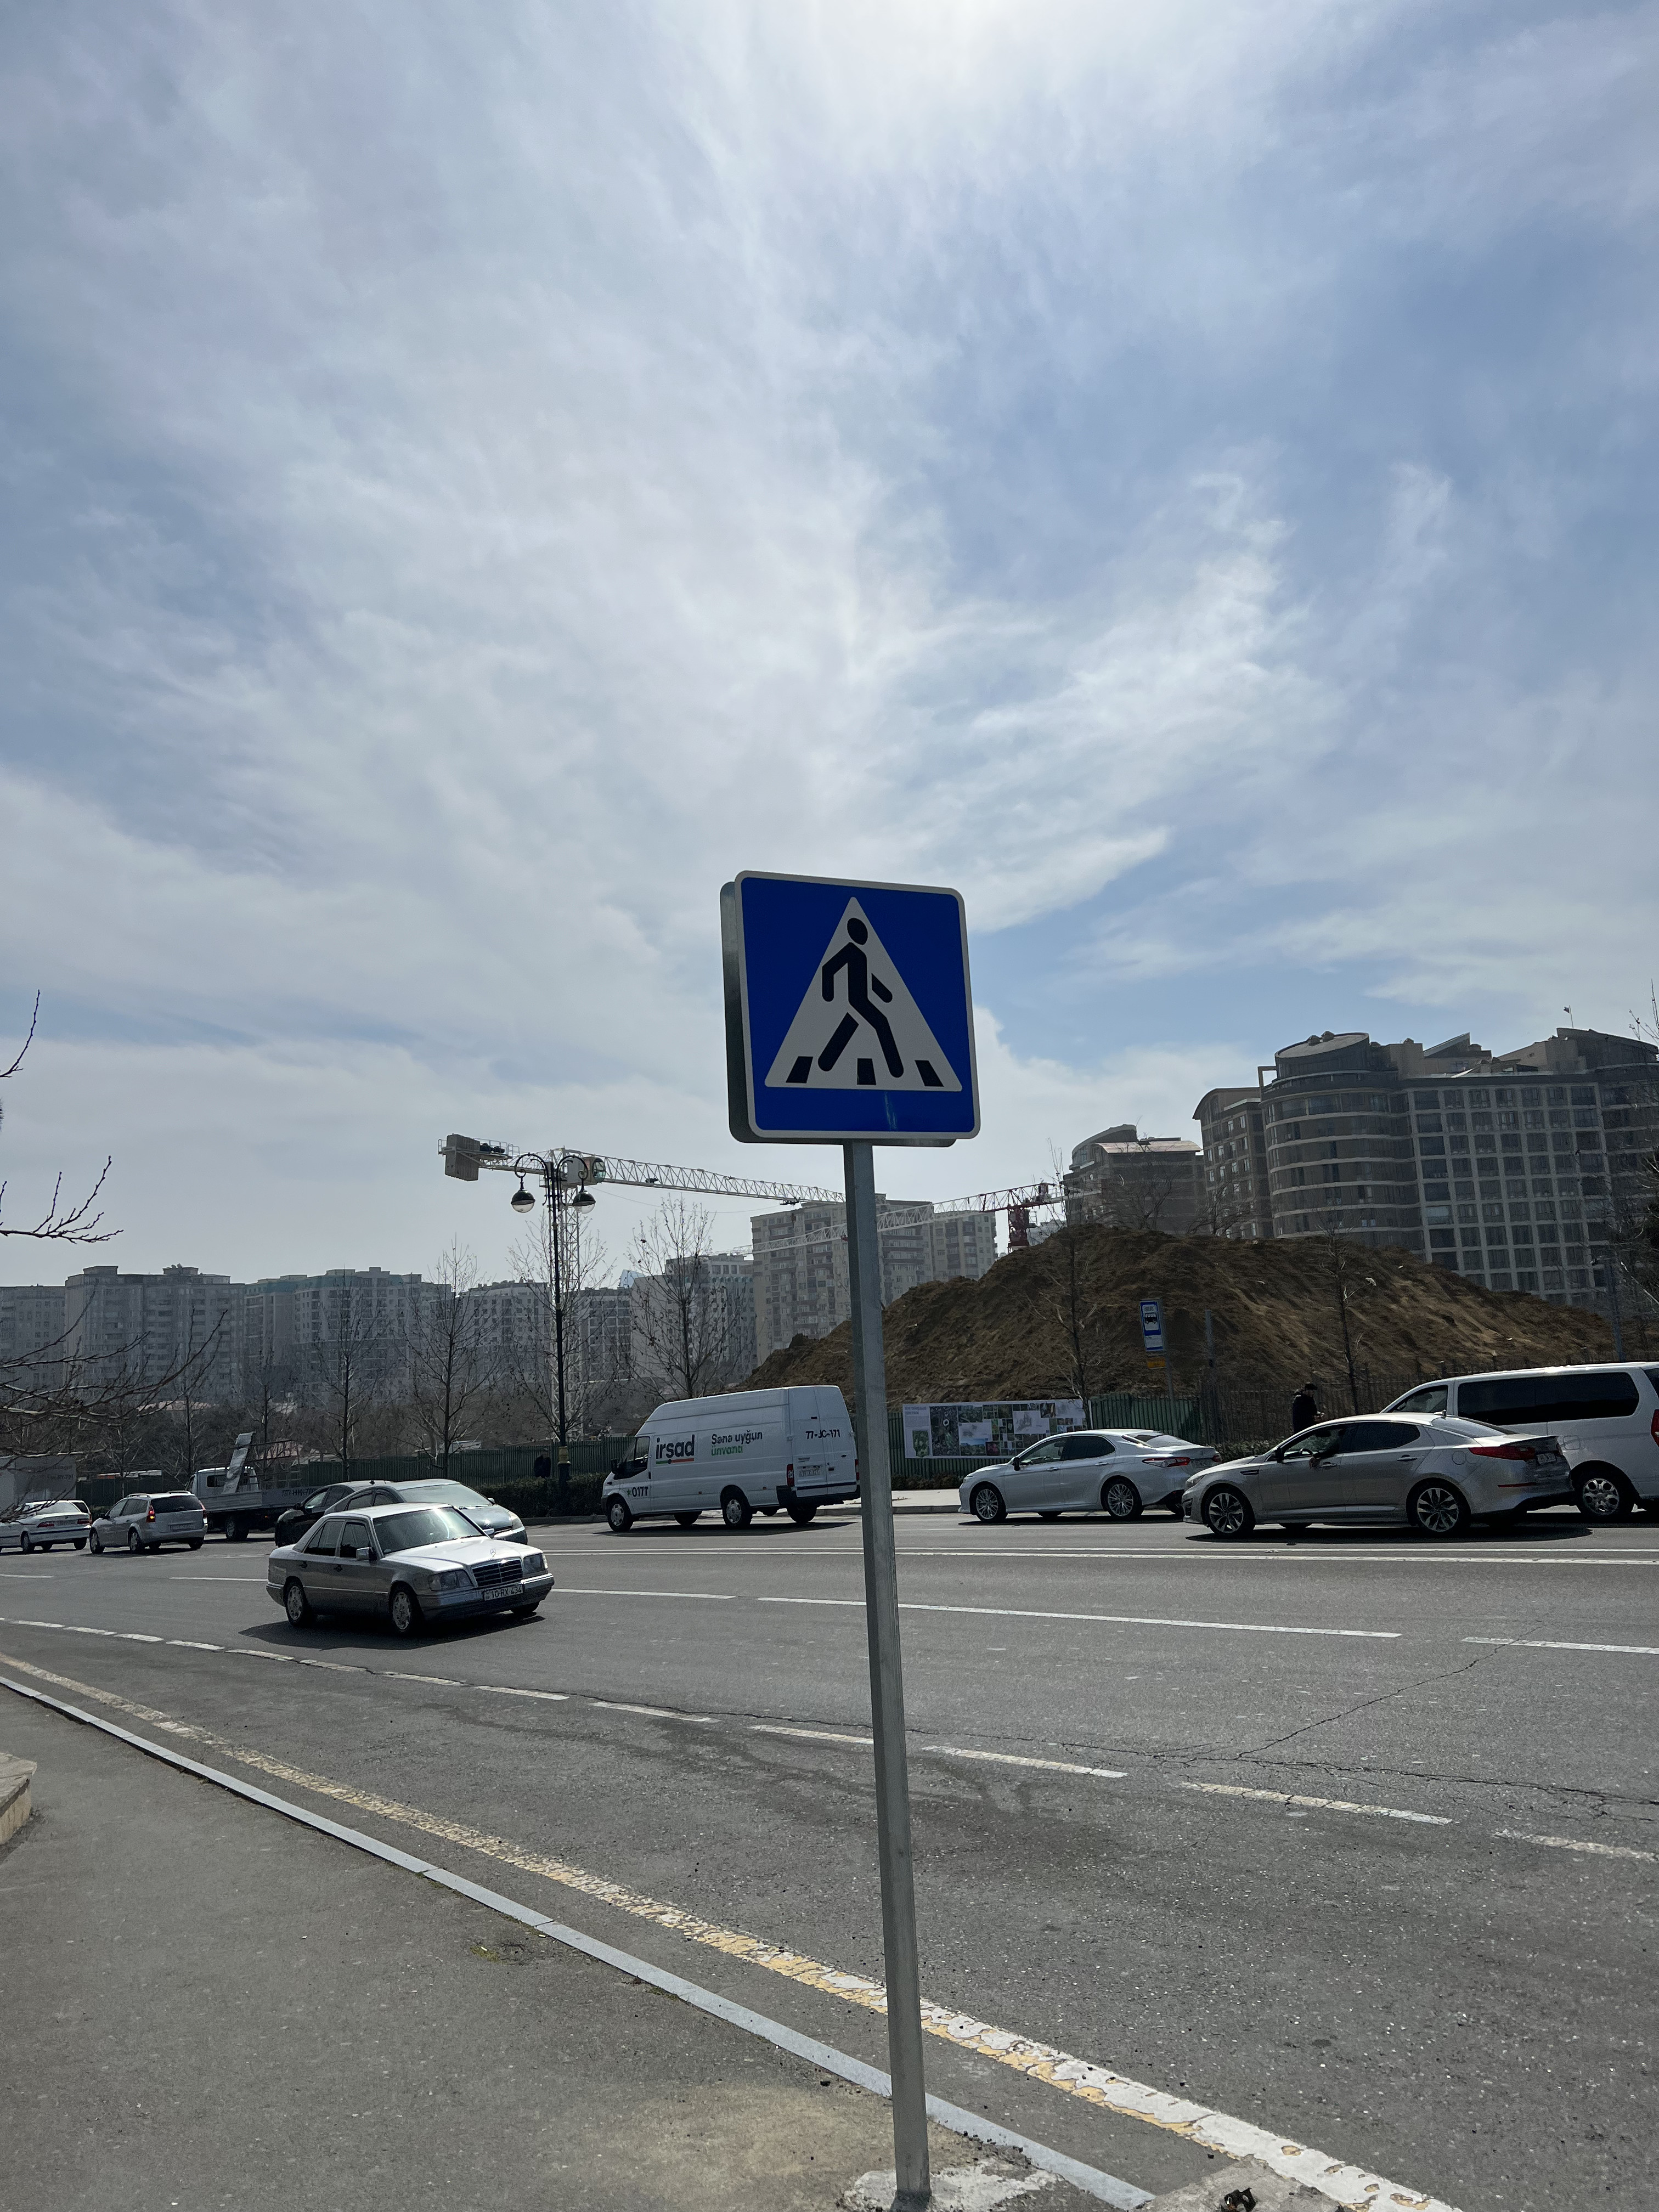Pedestrian Crossing: (730, 869, 979, 1141)
